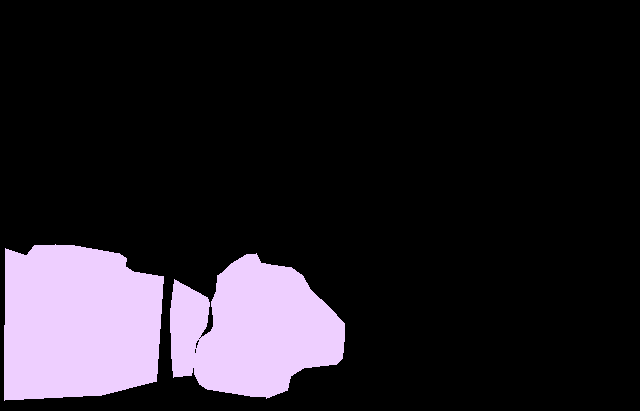Train: (4, 244, 210, 401), (194, 253, 344, 399)
